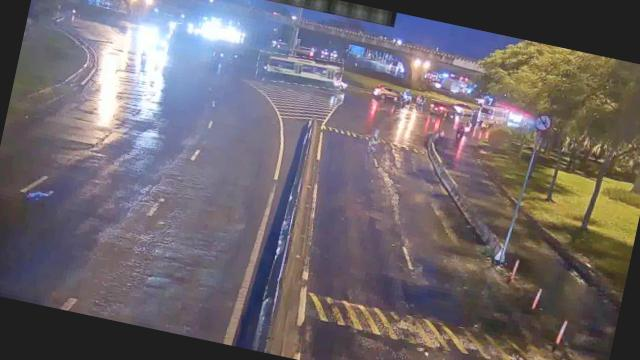Bus: (256, 47, 346, 94)
Car: (429, 99, 458, 118)
